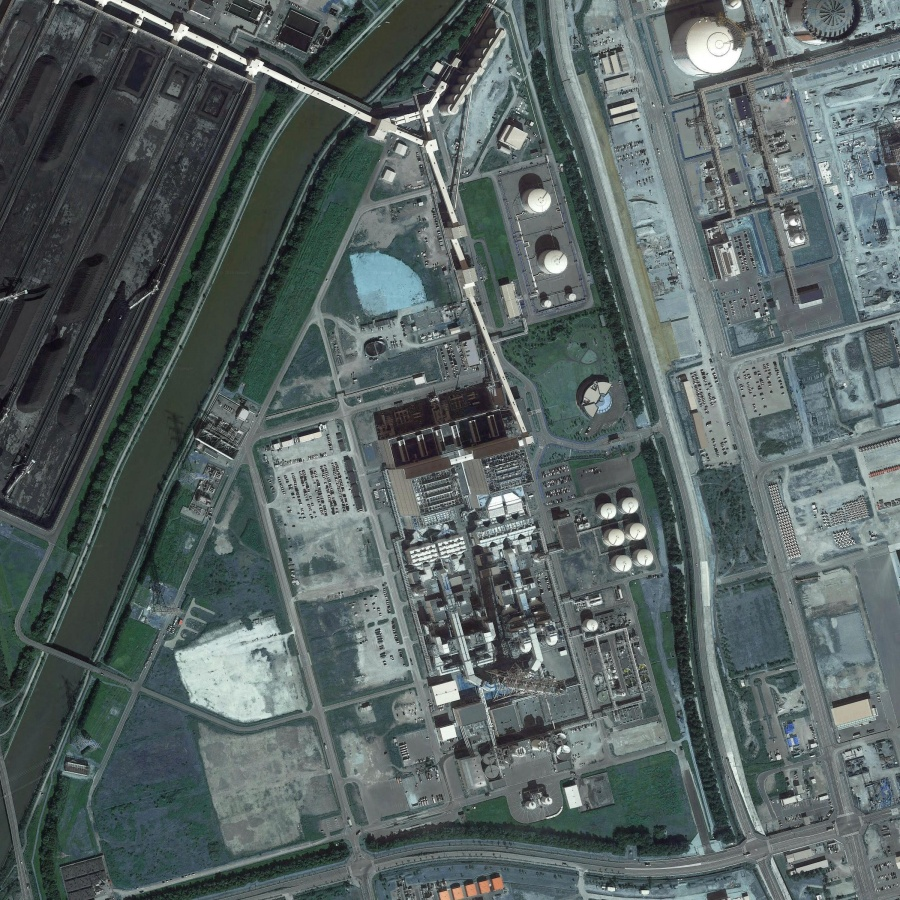PowerPlant: (385, 423, 665, 813)
